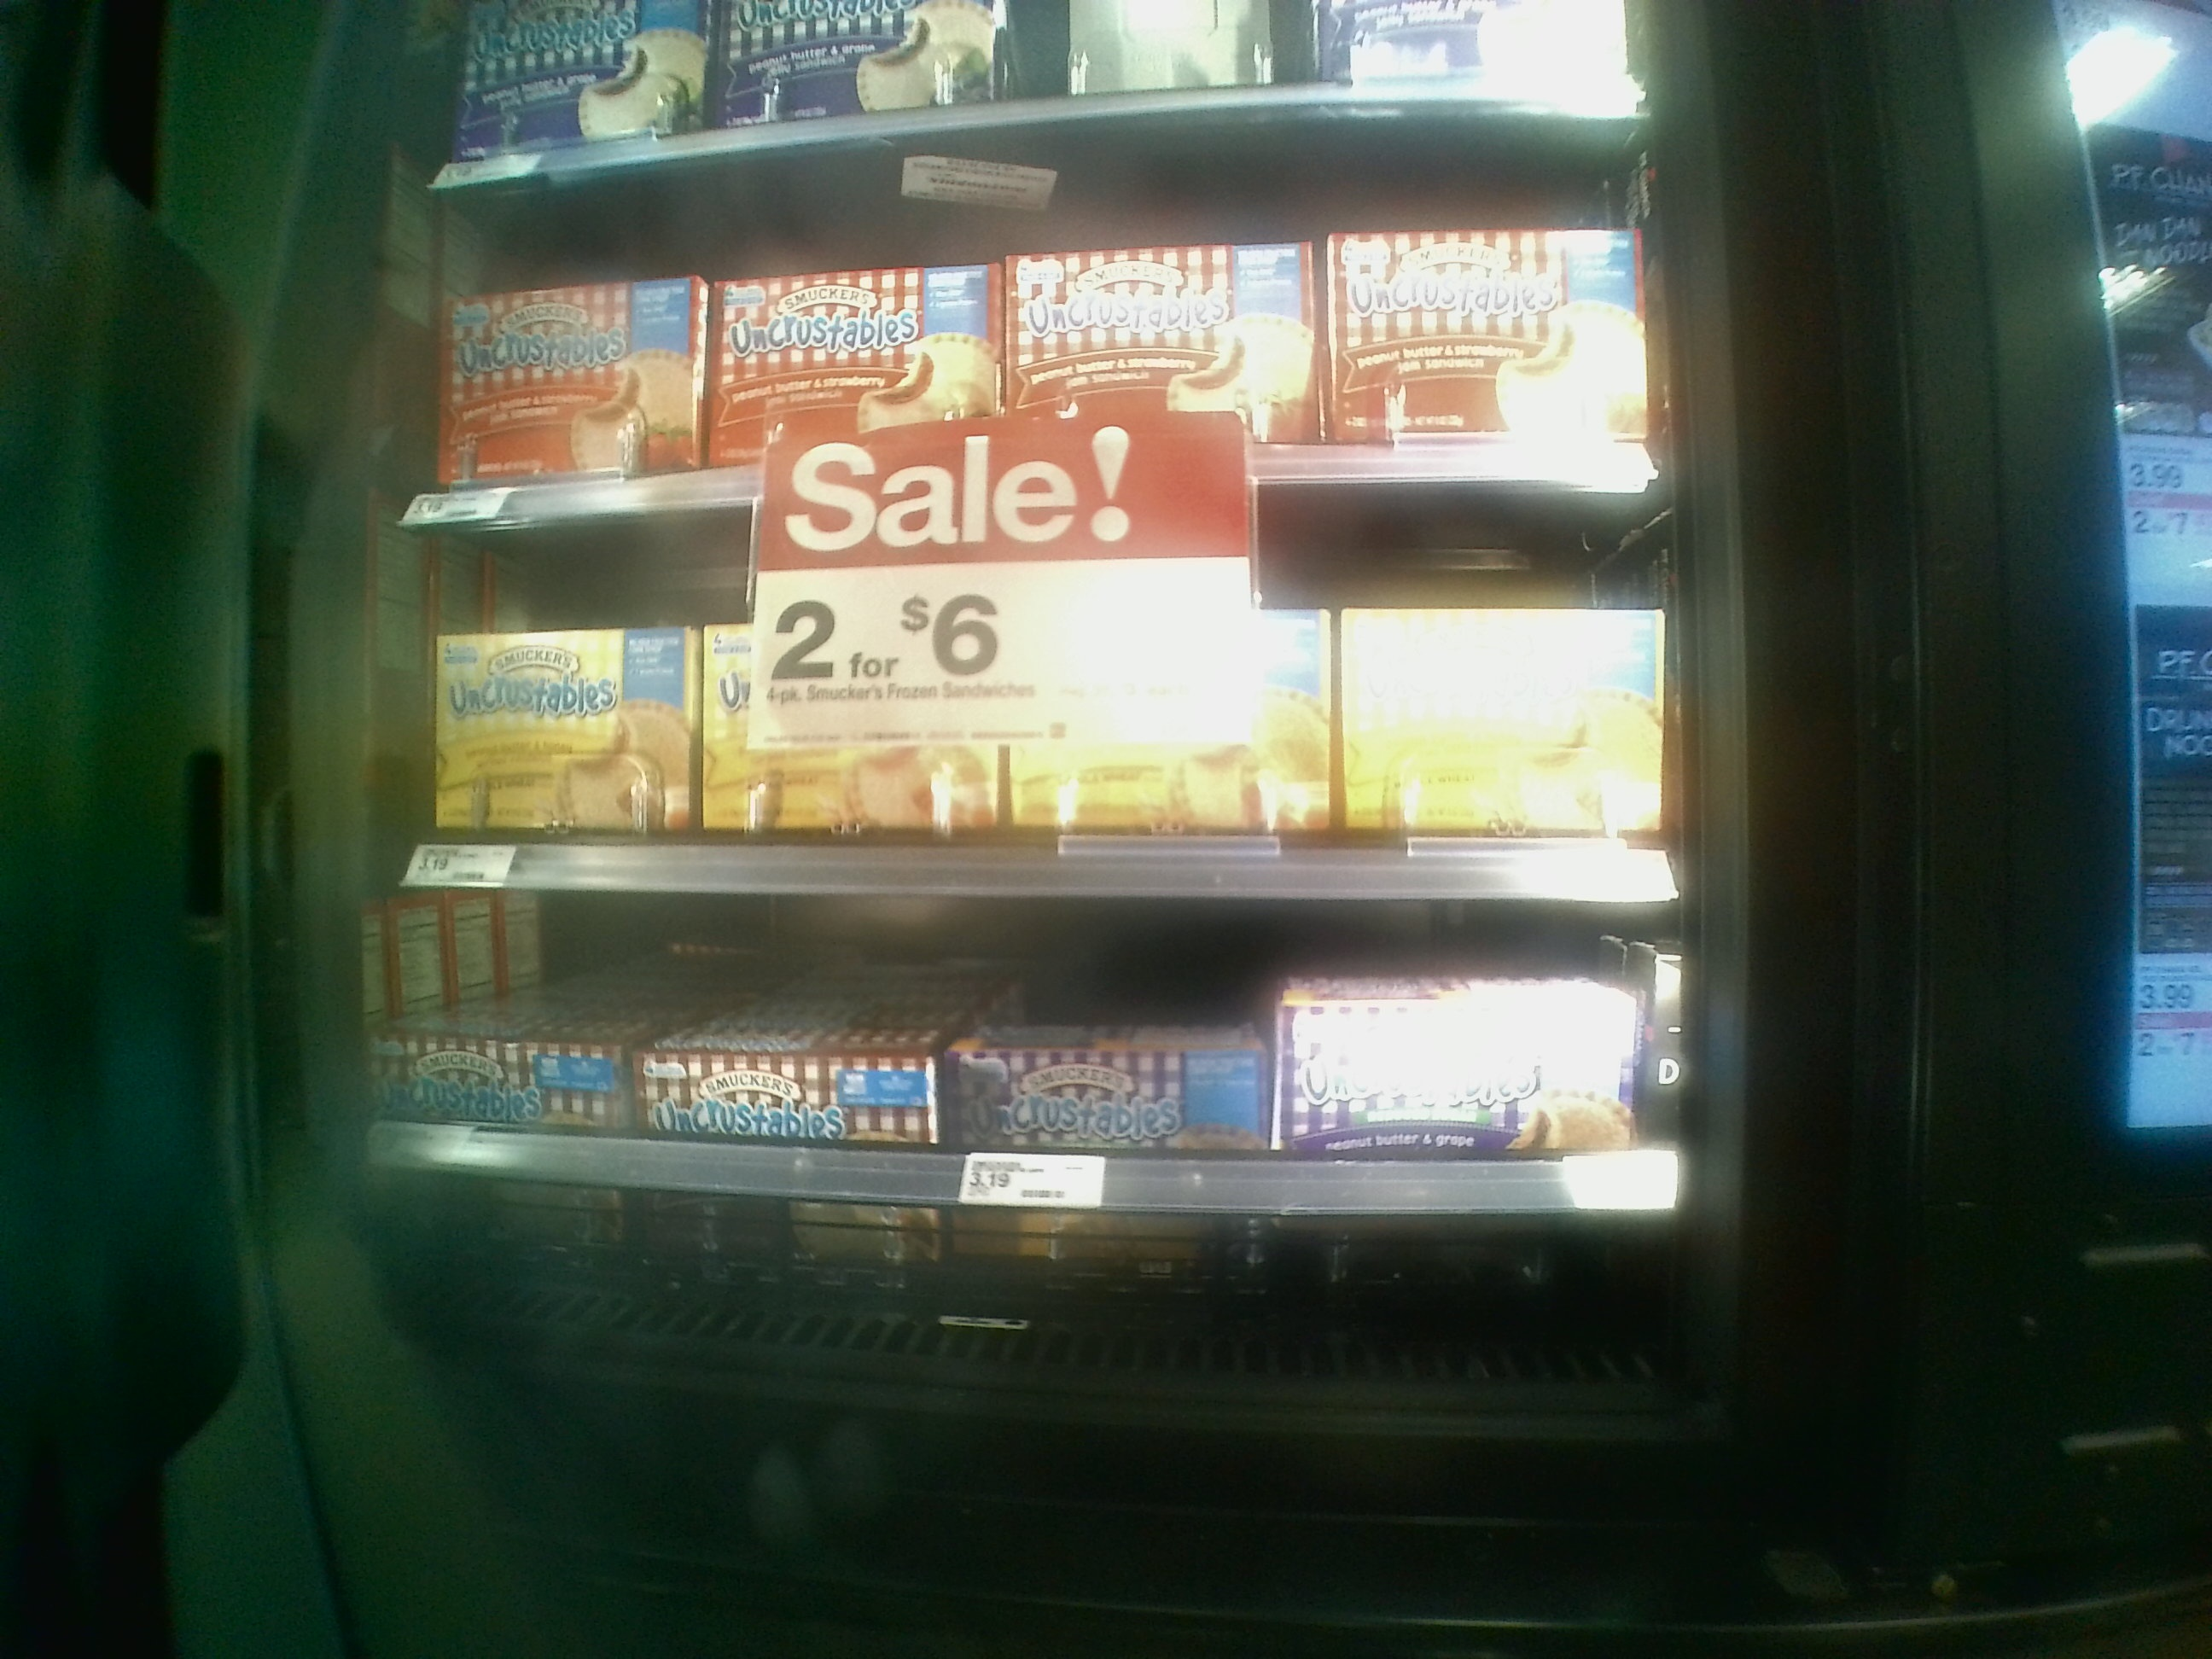shelf: (355, 887, 1688, 1391), (376, 509, 1674, 908), (376, 181, 1658, 491)
